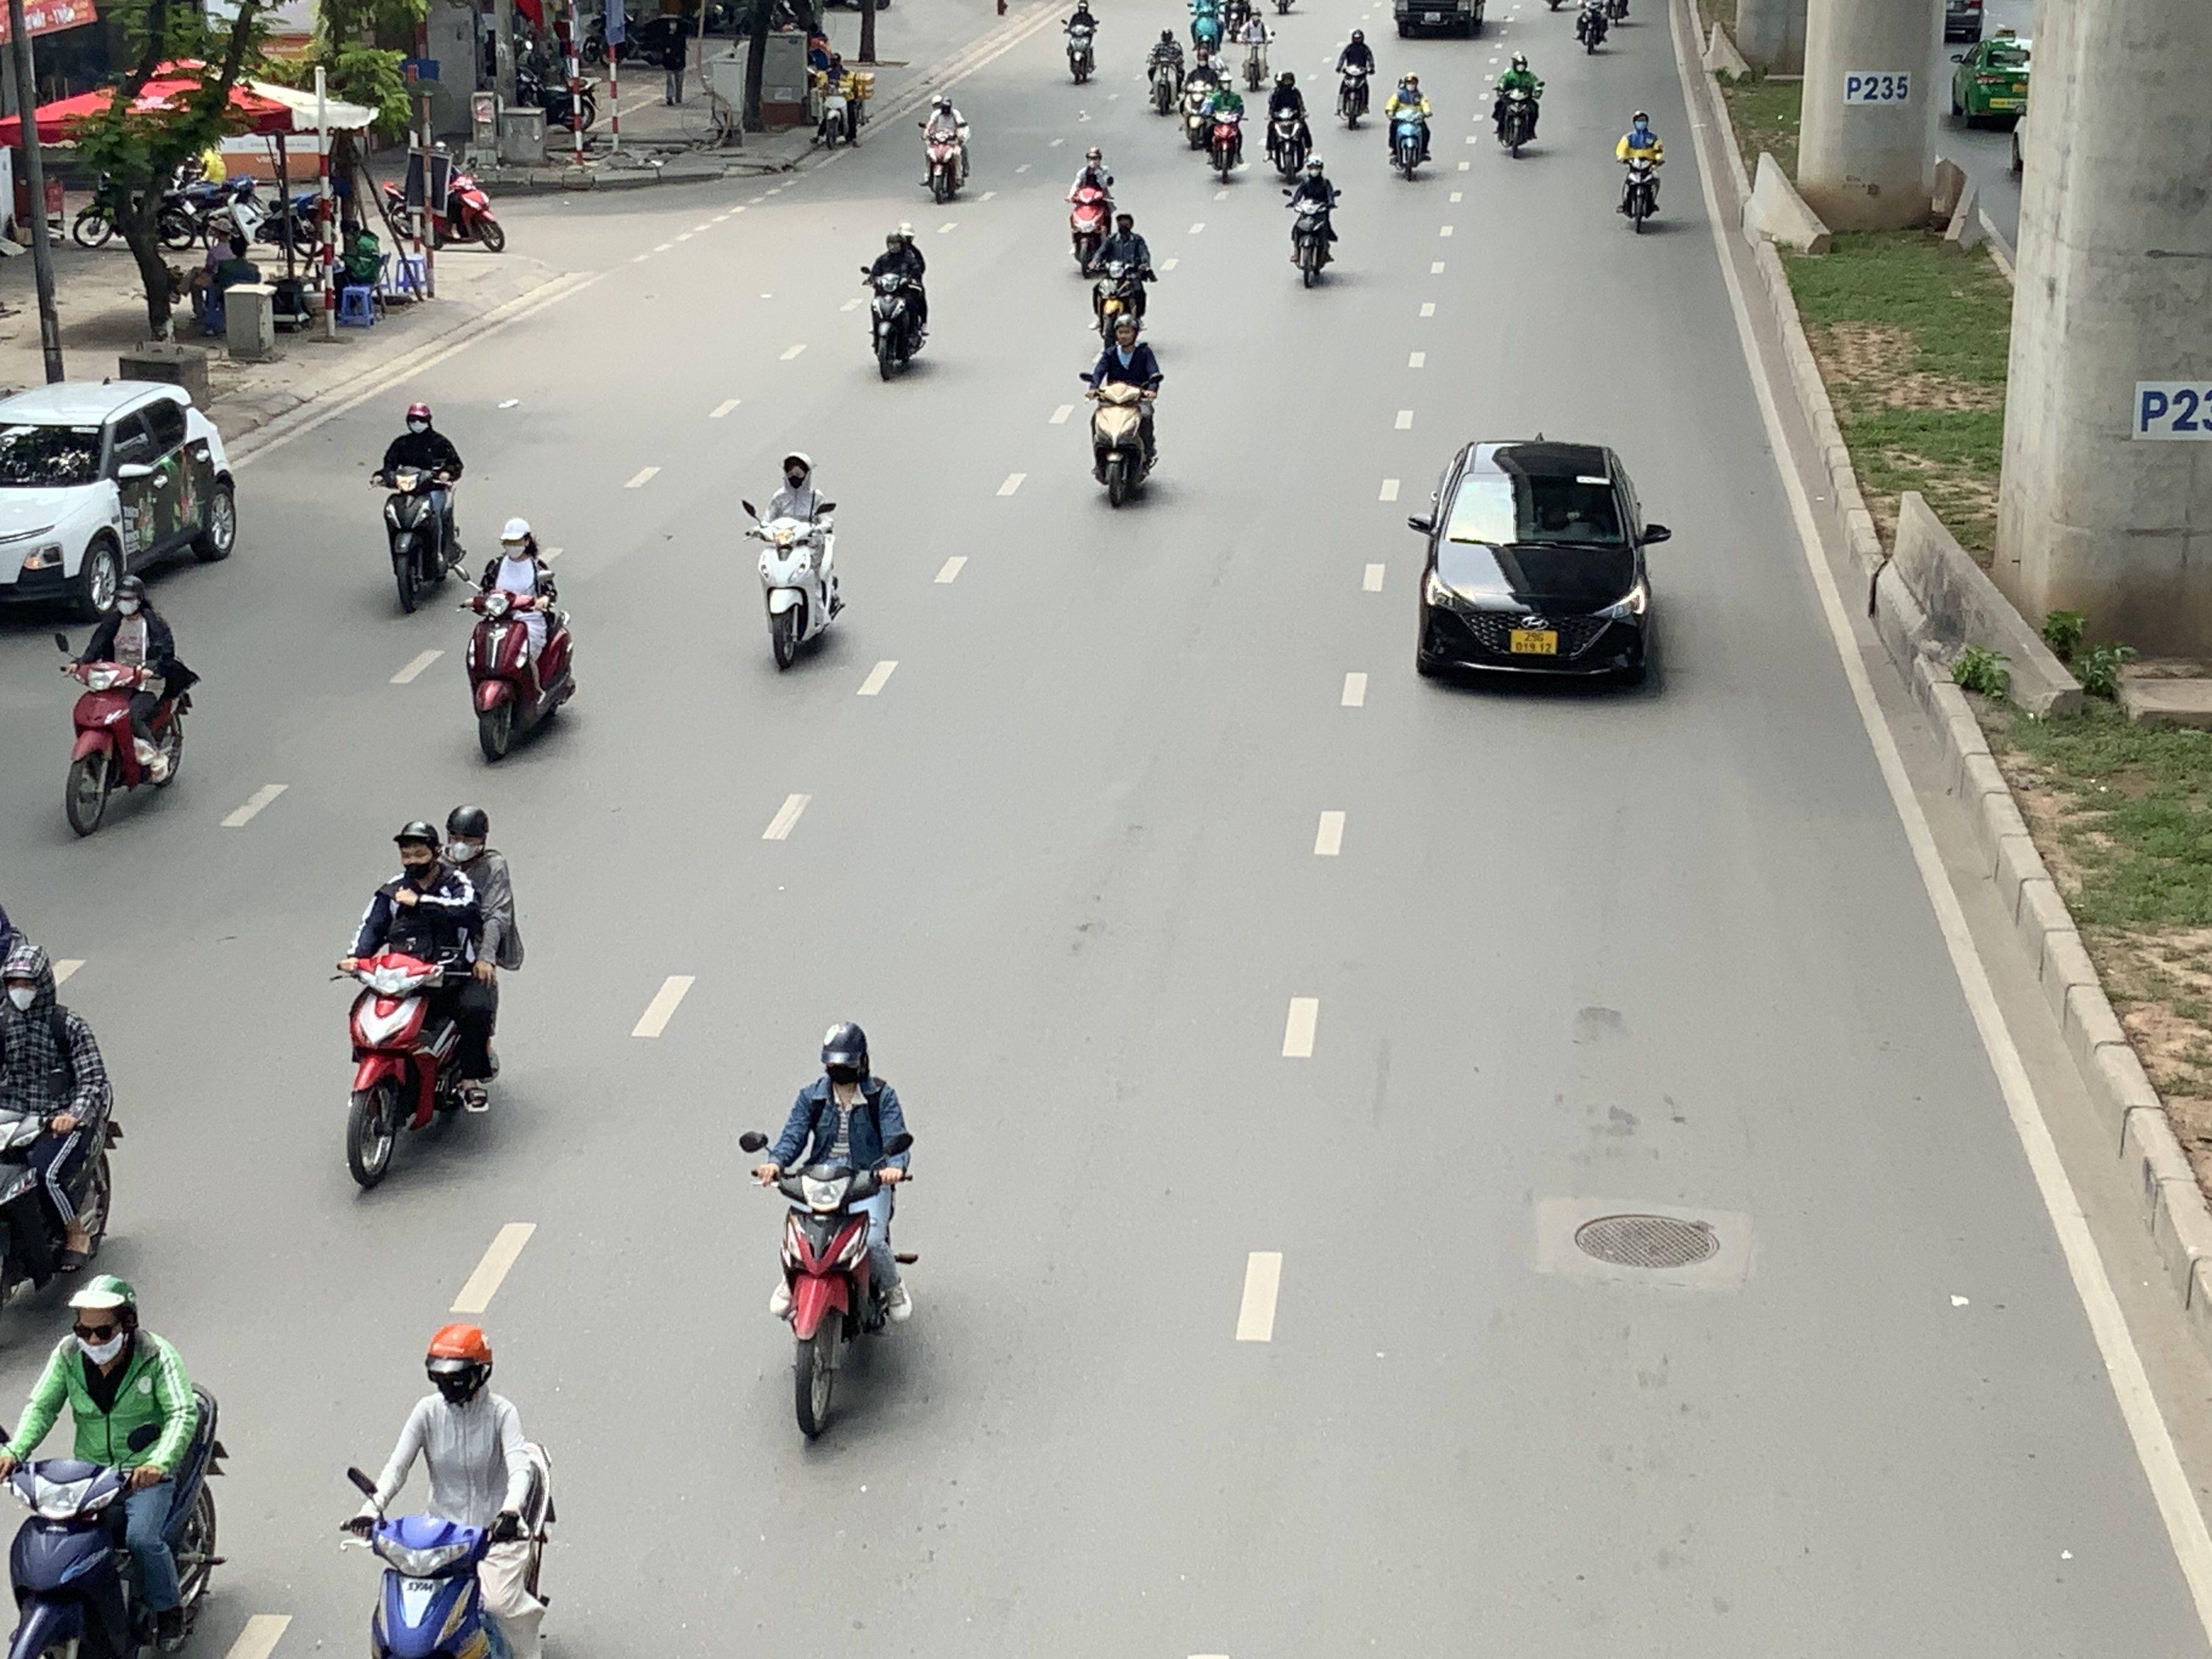BSV: (1510, 631, 1557, 655)
car: (1407, 437, 1672, 692), (0, 378, 237, 622), (1951, 31, 2034, 129)
motorbike: (0, 1274, 228, 1659), (744, 1019, 918, 1445), (343, 1321, 557, 1659), (334, 807, 517, 1194), (0, 918, 120, 1368), (59, 577, 197, 836), (462, 516, 577, 765), (744, 451, 843, 673), (373, 401, 469, 615), (1082, 312, 1162, 511), (862, 225, 930, 383), (1087, 211, 1157, 342), (428, 148, 505, 251), (1285, 155, 1341, 288), (1066, 146, 1118, 274), (1616, 108, 1665, 234), (810, 49, 867, 150), (1491, 49, 1543, 159), (920, 91, 970, 204), (1264, 68, 1313, 178), (1385, 73, 1433, 179), (1202, 71, 1247, 181), (1334, 26, 1376, 129), (1179, 45, 1221, 146), (1144, 24, 1184, 113), (1062, 0, 1099, 84), (1240, 5, 1275, 92), (1184, 0, 1224, 58)
